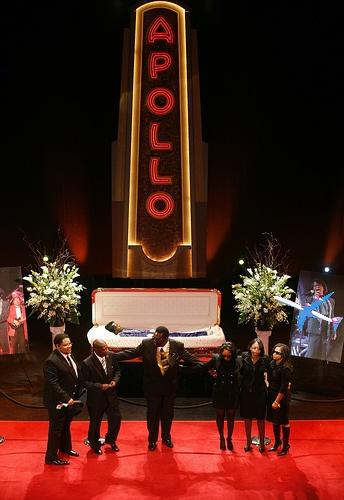tampered: (274, 293, 343, 331)
